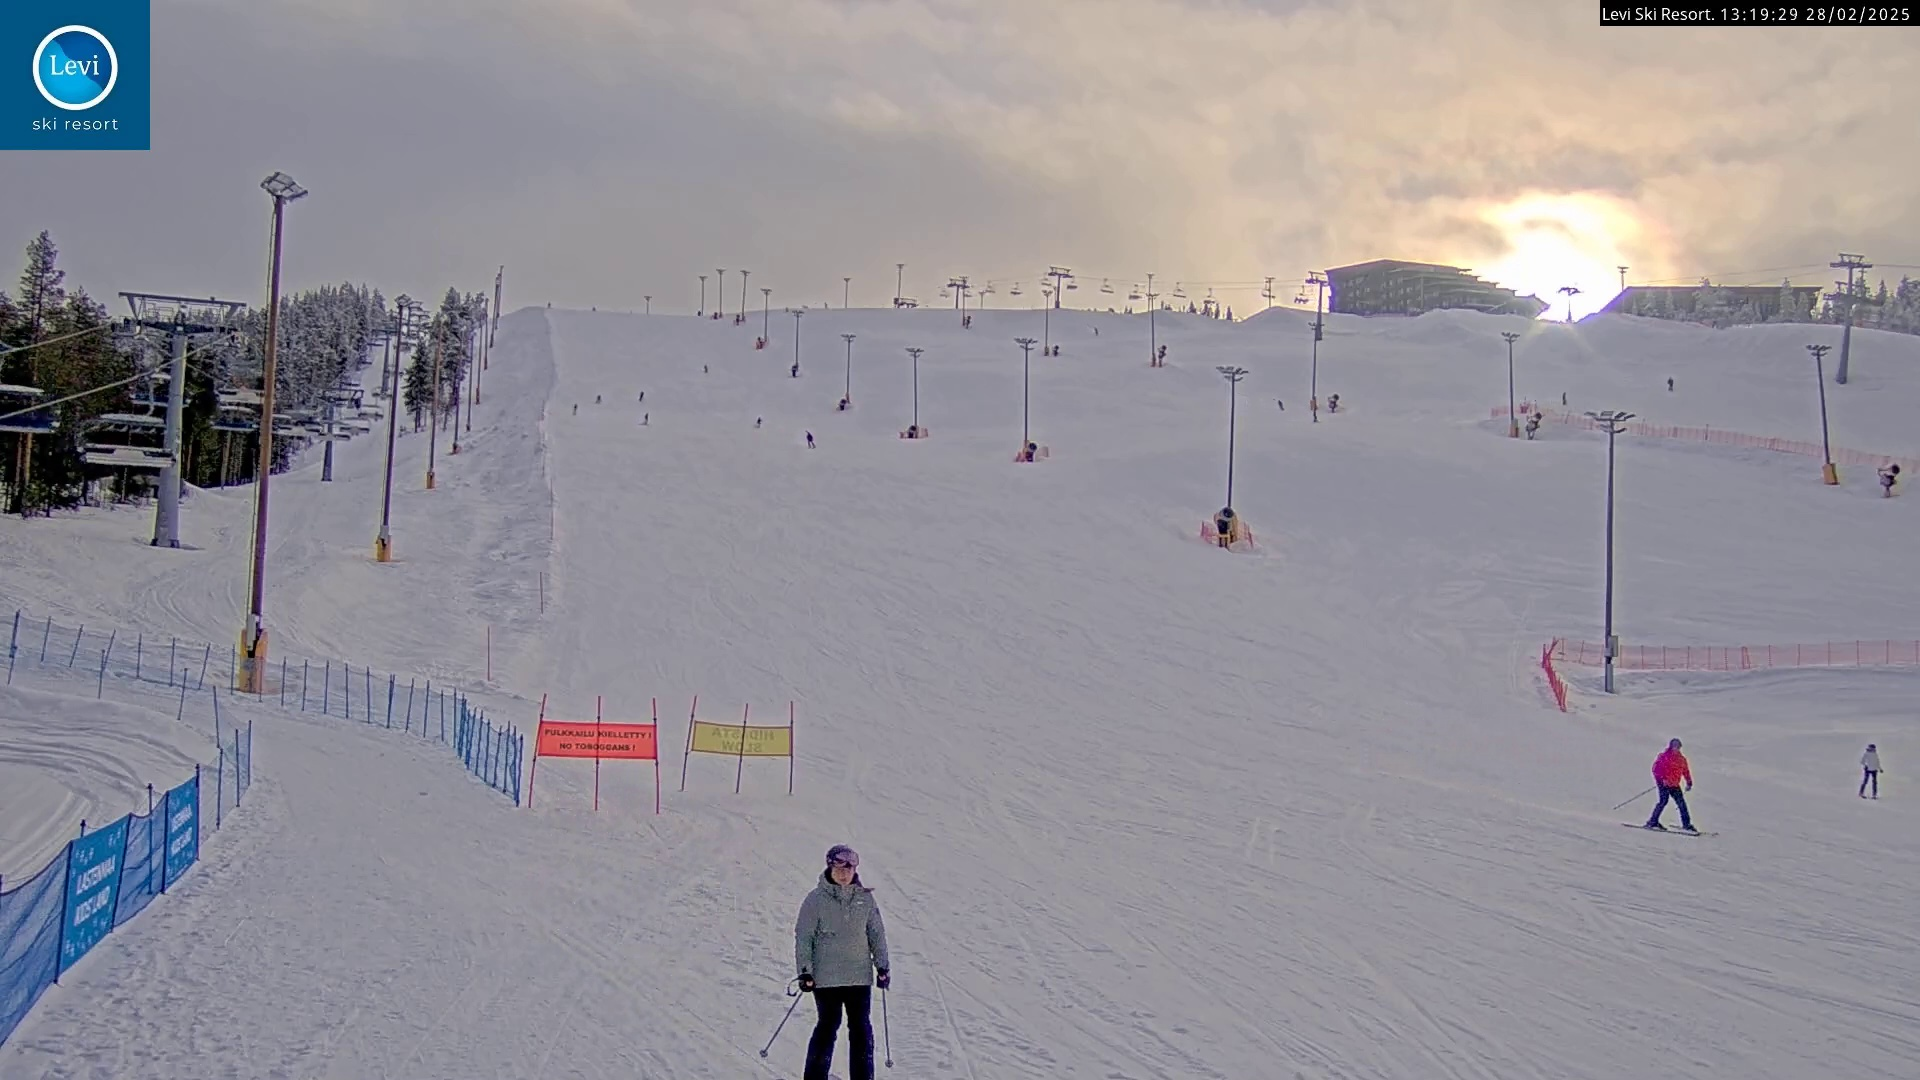skier: (754, 841, 895, 1080), (1615, 729, 1724, 837)
